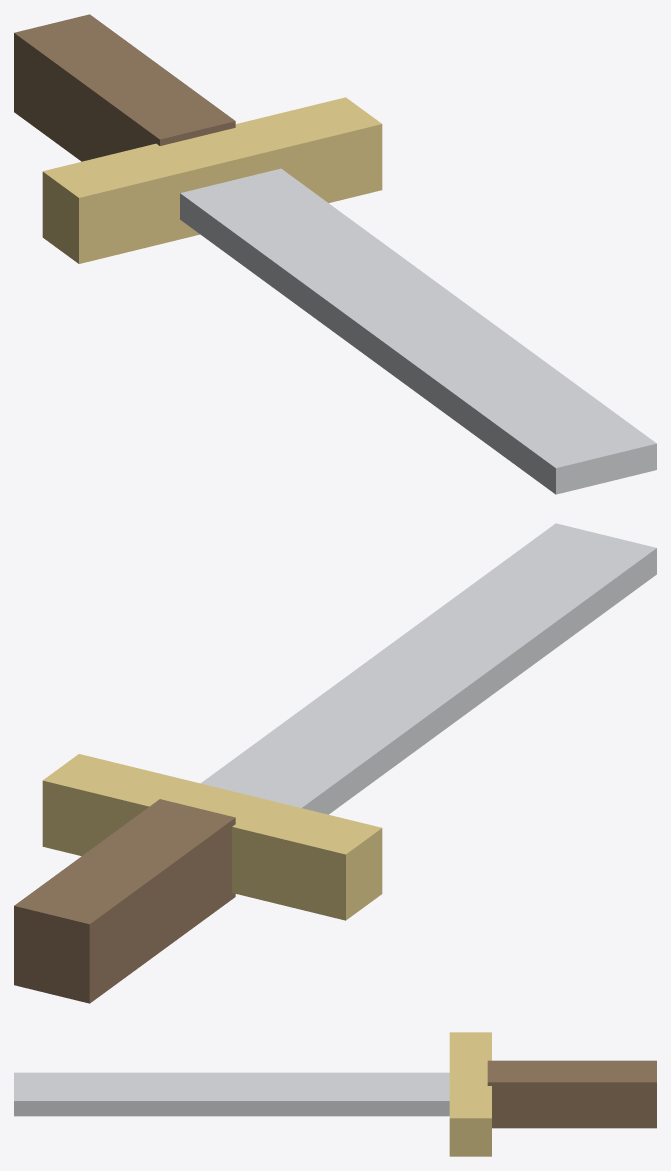
File: dagger.glb
3 renders of one model, top to bottom at view 1: azimuth 30°, elevation 25°; view 2: azimuth 150°, elevation 25°; view 3: azimuth 270°, elevation 25°, orthographic. The views are drawn at different scales.
Parts seen in each view (by area): view 1: Dagger; view 2: Dagger; view 3: Dagger.
Boxes of the visible parts, x1,y1,x2,y2 form: Dagger: (14,14,656,494); Dagger: (14,523,656,1003); Dagger: (14,1032,656,1156).
Size of the model in its own units: 0.12 by 0.03 by 0.38.
